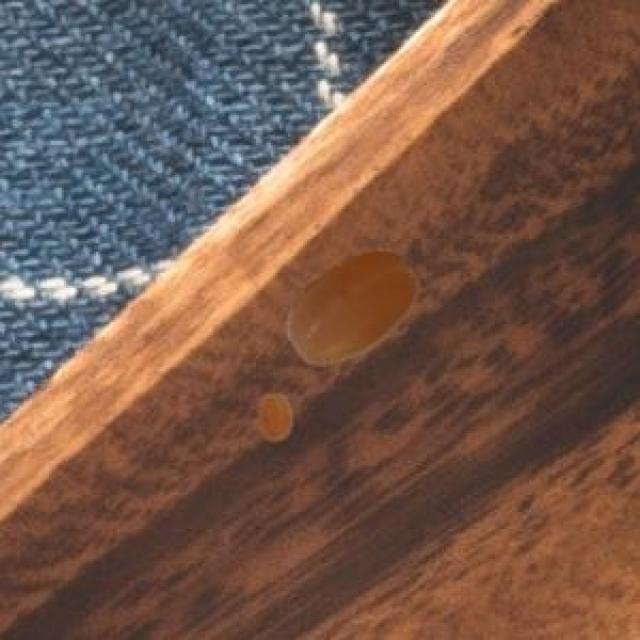Bactidol: (270, 224, 430, 374), (244, 381, 305, 448)
